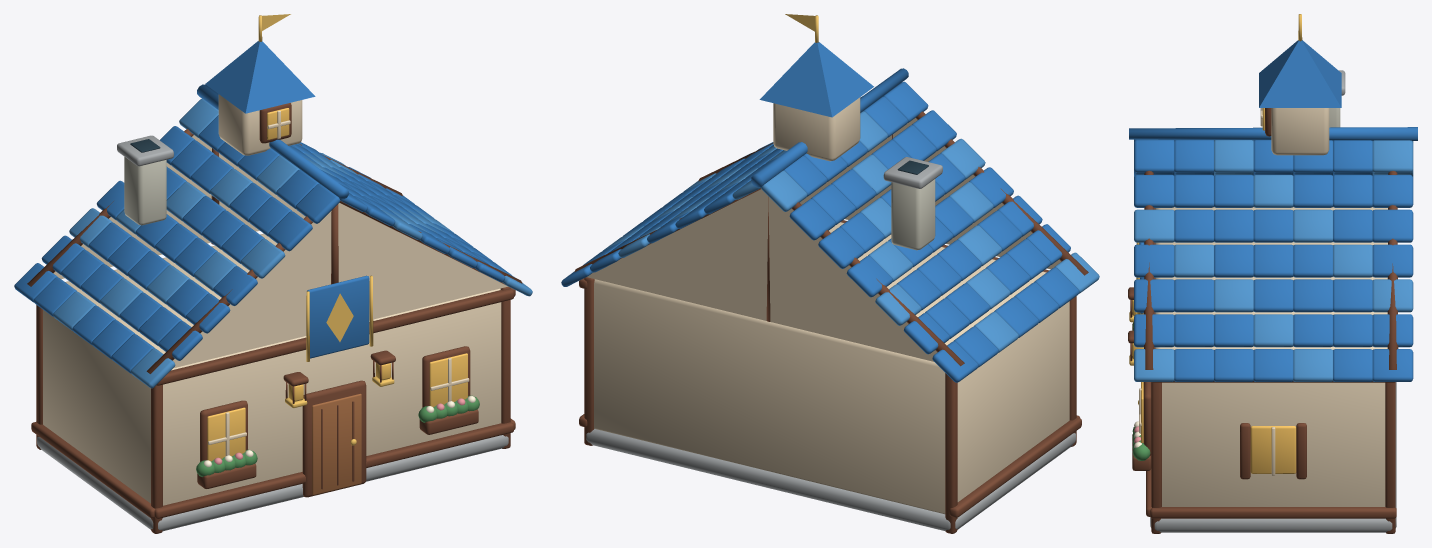
File: village_guild.glb
3 views of the same model, side by side, from view 1: azimuth 30°, elevation 25°; view 2: azimuth 150°, elevation 25°; view 3: azimuth 270°, elevation 25° (orthographic). The views are drawn at different scales.
Visible parts, largest first — view 1: village_guild_mesh; view 2: village_guild_mesh; view 3: village_guild_mesh.
Part boxes in pixels (x1=…): village_guild_mesh: x1=14, y1=14, x2=532, y2=533; village_guild_mesh: x1=561, y1=14, x2=1099, y2=533; village_guild_mesh: x1=1128, y1=14, x2=1417, y2=533.
Size of the model in its own units: 6.43 by 6.76 by 4.12.
